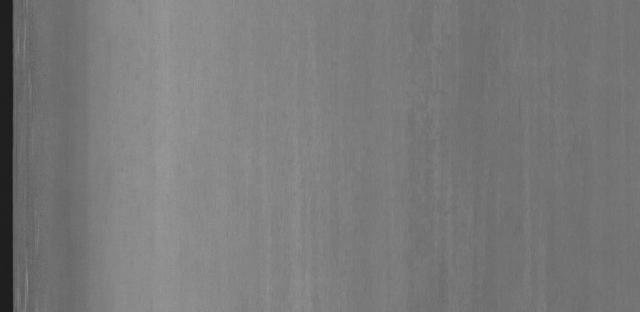silk_spot: (392, 7, 461, 118)
